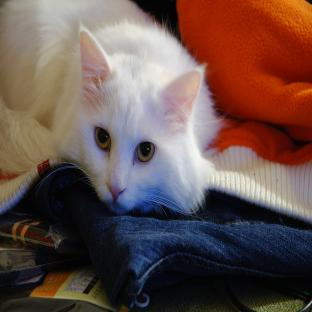Animal: (0, 0, 222, 214)
